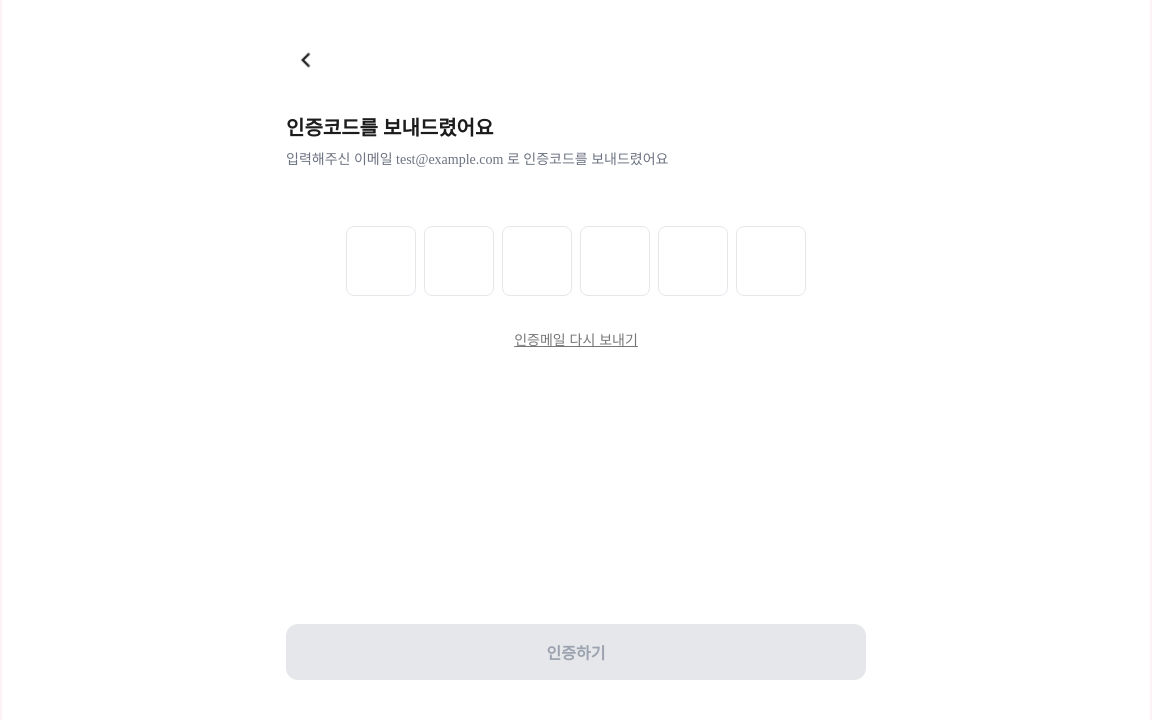
Test: VerifyPage › 코드 입력 UX › 6자리 순차 입력이 각 필드에 올바르게 들어간다
Click the 1st field at x=381, y=261, box [346, 226, 416, 296]
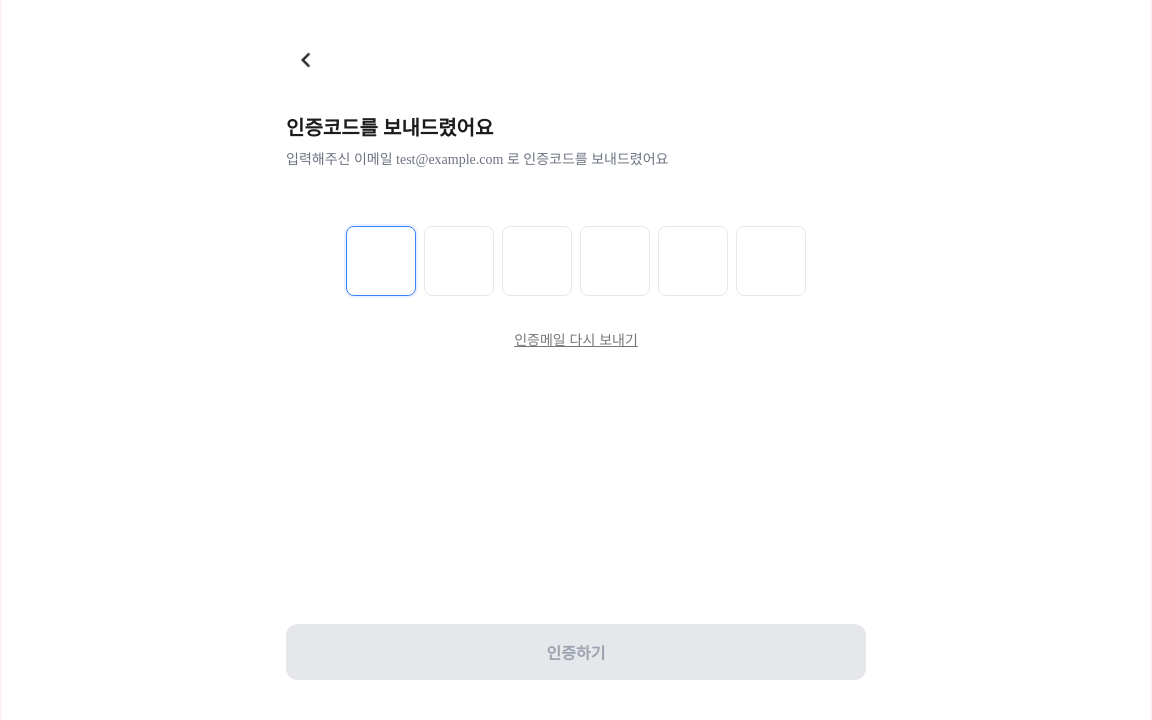
Type keys "123456"
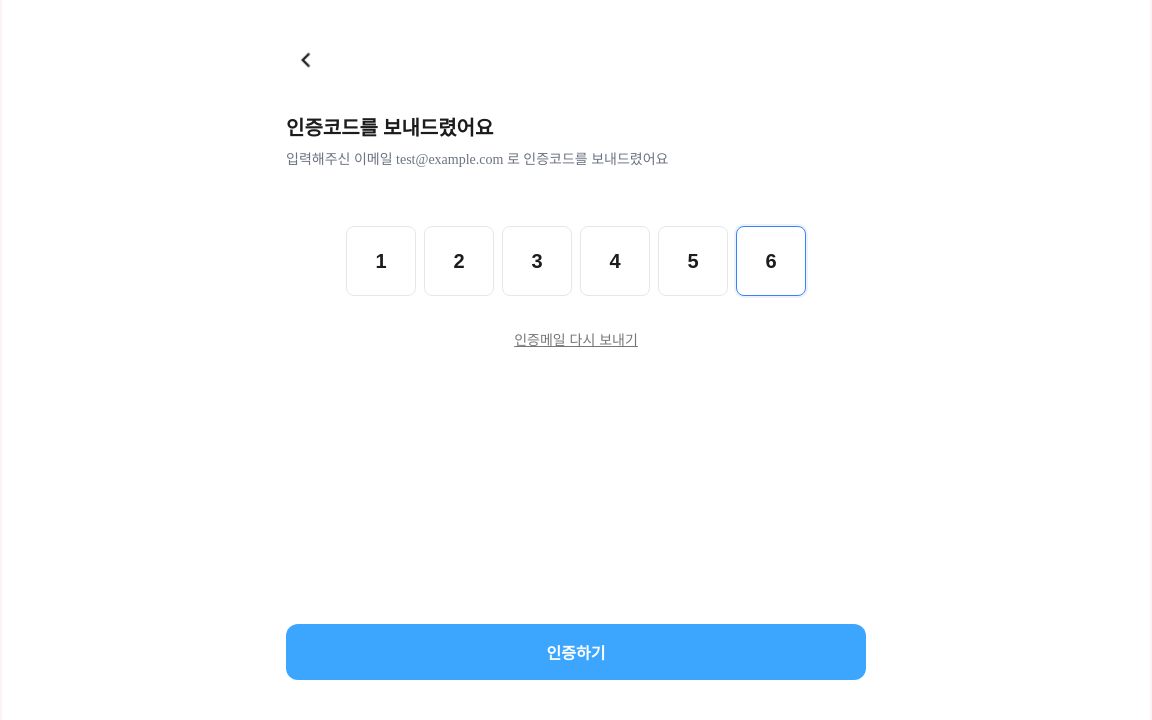
Now the 1st field holds "1", box [346, 226, 416, 296]
Now the 2nd field holds "2", box [424, 226, 494, 296]
